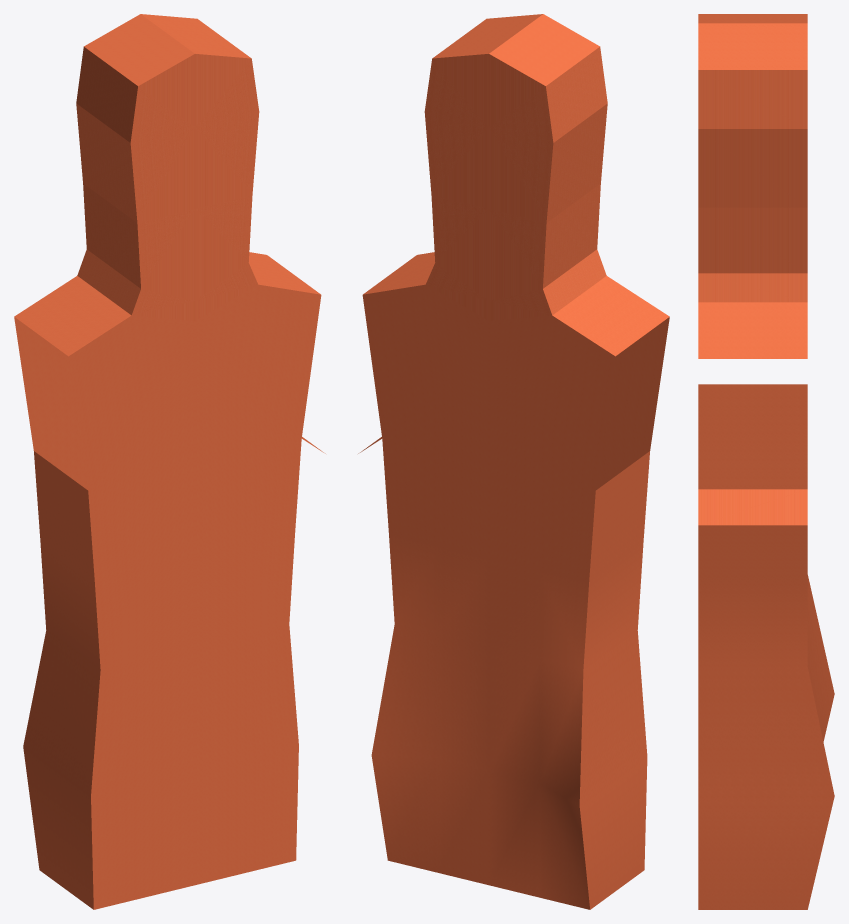
Rendered from Cuerpo.obj.
3 views of the same model, side by side, from view 1: azimuth 30°, elevation 25°; view 2: azimuth 150°, elevation 25°; view 3: azimuth 270°, elevation 25° (orthographic).
Visible parts, largest first — view 1: Cuerpo; view 2: Cuerpo; view 3: Cuerpo.
Boxes of the visible parts, box(x1,y1,x2,y2) form: Cuerpo: box(14, 14, 325, 909); Cuerpo: box(358, 14, 669, 909); Cuerpo: box(698, 14, 834, 909).
Bounding box in the file's own units: 0.5553 × 1.7 × 0.2513.
1 material, 1 textured.
